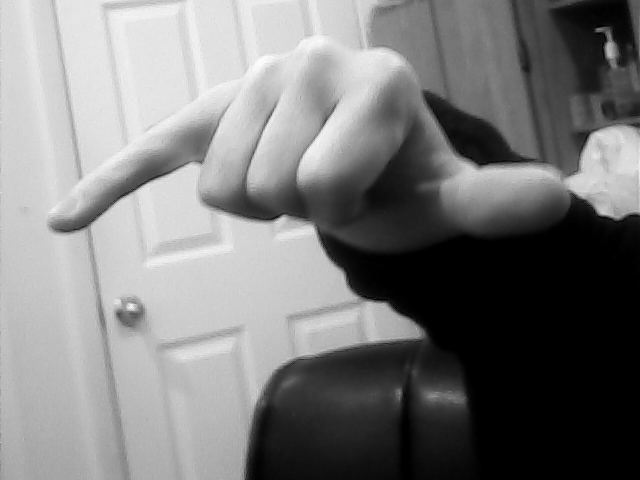aloha: (42, 34, 574, 263)
